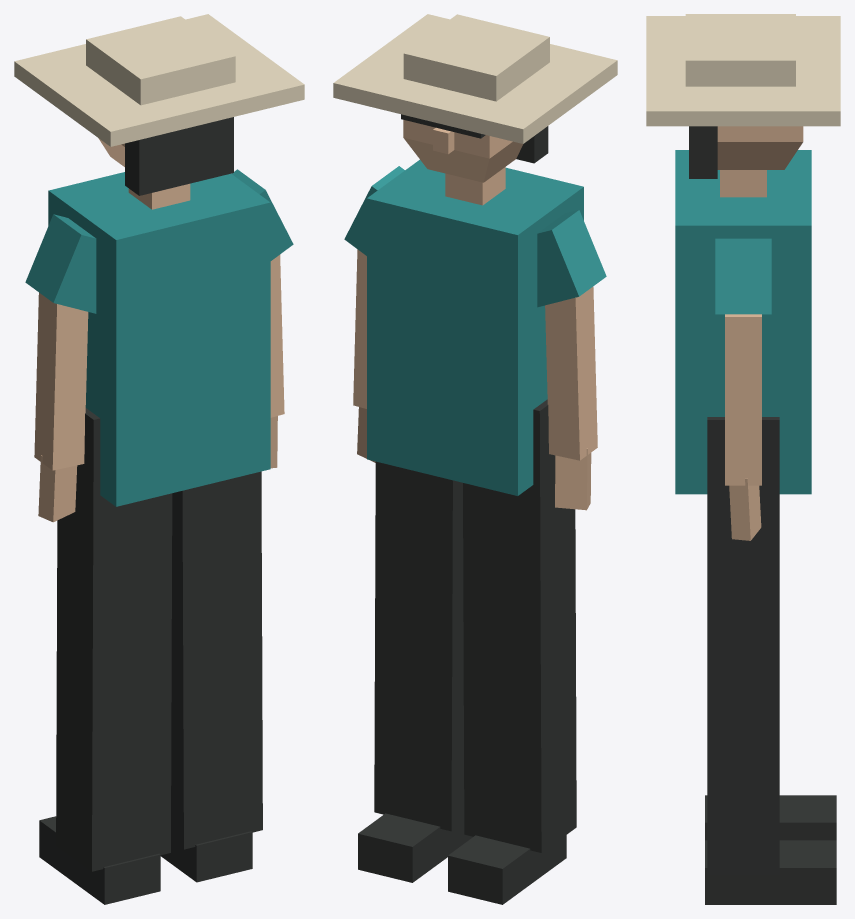
File: pedestrian_08.glb
3 renders of one model, left to right at view 1: azimuth 30°, elevation 25°; view 2: azimuth 150°, elevation 25°; view 3: azimuth 270°, elevation 25°, orthographic. The views are drawn at different scales.
Parts seen in each view (by area): view 1: pedestrian_08 crowd_trousers, pedestrian_08 crowd_shirt, pedestrian_08 crowd_accessory, pedestrian_08 crowd_skin, pedestrian_08 crowd_rubber; view 2: pedestrian_08 crowd_trousers, pedestrian_08 crowd_shirt, pedestrian_08 crowd_accessory, pedestrian_08 crowd_skin, pedestrian_08 crowd_rubber; view 3: pedestrian_08 crowd_shirt, pedestrian_08 crowd_trousers, pedestrian_08 crowd_accessory, pedestrian_08 crowd_skin, pedestrian_08 crowd_rubber.
Boxes of the visible parts, x1,y1,x2,y2 form: pedestrian_08 crowd_trousers: (56,408,262,871); pedestrian_08 crowd_shirt: (25,169,293,506); pedestrian_08 crowd_accessory: (14,14,304,146); pedestrian_08 crowd_skin: (34,138,284,522); pedestrian_08 crowd_rubber: (39,117,252,904); pedestrian_08 crowd_trousers: (374,399,576,852); pedestrian_08 crowd_shirt: (344,160,606,495); pedestrian_08 crowd_accessory: (333,14,617,143); pedestrian_08 crowd_skin: (353,120,597,510); pedestrian_08 crowd_rubber: (358,114,566,904); pedestrian_08 crowd_shirt: (675,150,811,494); pedestrian_08 crowd_trousers: (707,417,779,875); pedestrian_08 crowd_accessory: (646,14,840,126); pedestrian_08 crowd_skin: (717,126,803,540); pedestrian_08 crowd_rubber: (689,126,836,904).
Size of the model in its own units: 0.5004 by 1.64 by 0.3478.
